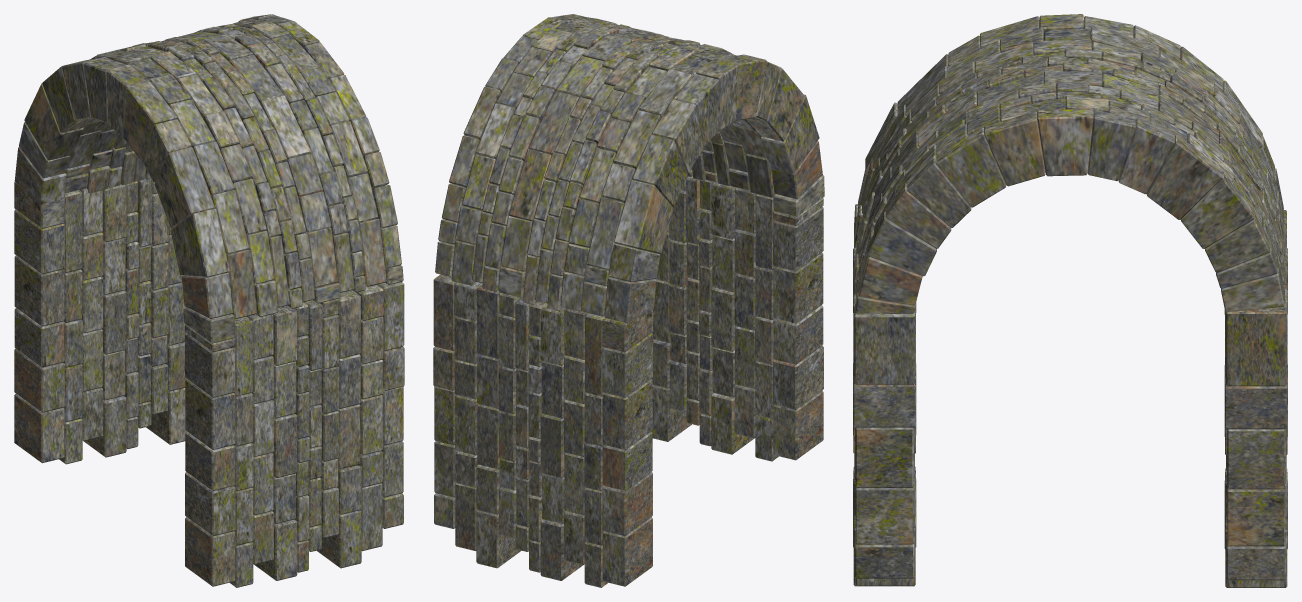
Rendered from level2arch.fbx.
The picture shows the model from 3 angles, left to right: view 1: azimuth 30°, elevation 25°; view 2: azimuth 150°, elevation 25°; view 3: azimuth 270°, elevation 25°; orthographic projection. The views are drawn at different scales.
Parts seen in each view (by area): view 1: Wall.043, Wall.044, Wall.042; view 2: Wall.043, Wall.042, Wall.044; view 3: Wall.043, Wall.042, Wall.044.
Boxes of the visible parts, bbox=[...] form: Wall.043: bbox=[14, 14, 403, 343]; Wall.044: bbox=[185, 282, 404, 587]; Wall.042: bbox=[14, 178, 186, 464]; Wall.043: bbox=[435, 14, 824, 322]; Wall.042: bbox=[433, 274, 652, 587]; Wall.044: bbox=[637, 176, 823, 461]; Wall.043: bbox=[853, 14, 1286, 313]; Wall.042: bbox=[1224, 210, 1287, 587]; Wall.044: bbox=[853, 246, 916, 586].
Size of the model in its own units: 298 by 671 by 533.
